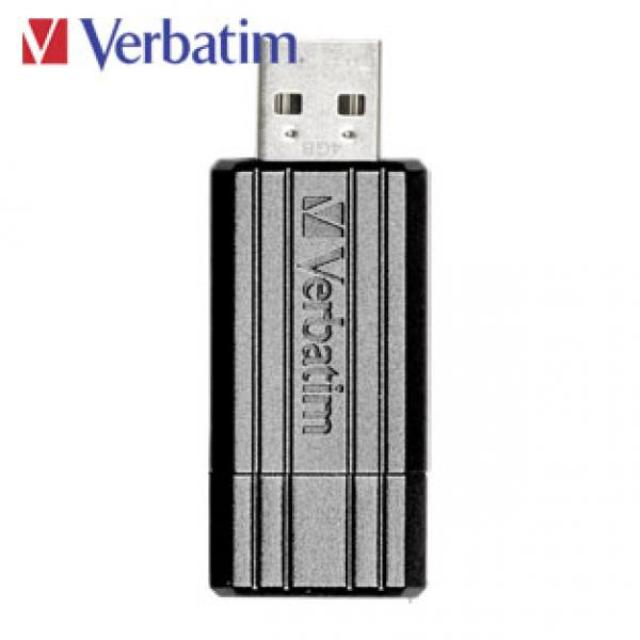USB-Flash-Drive: (202, 33, 430, 607)
